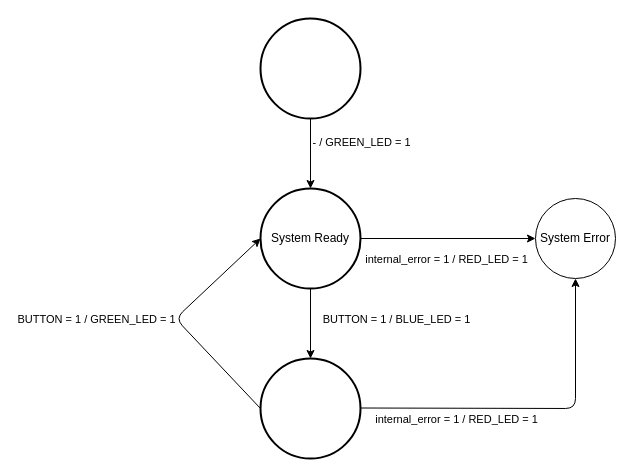
Some shapes in this 633 by 476 pixel diagram are drawn without their labels. Each missing label, with the centre of its shape:
"Initialize" goes at point 310,68.
"System Recording" goes at point 310,408.
